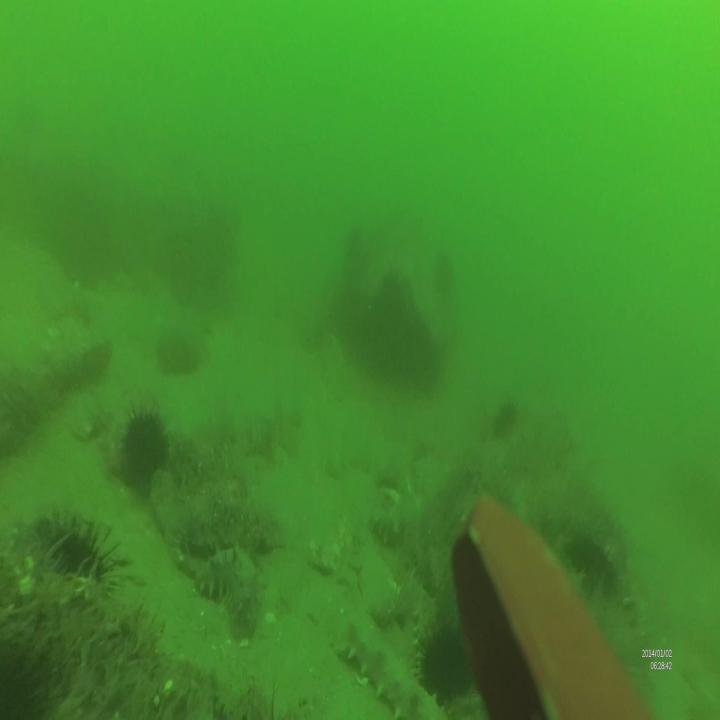echinus: (49, 519, 117, 603), (417, 616, 474, 700), (566, 530, 618, 610), (120, 408, 169, 490), (493, 399, 519, 438)
holothurian: (337, 614, 412, 720), (194, 546, 254, 604)
